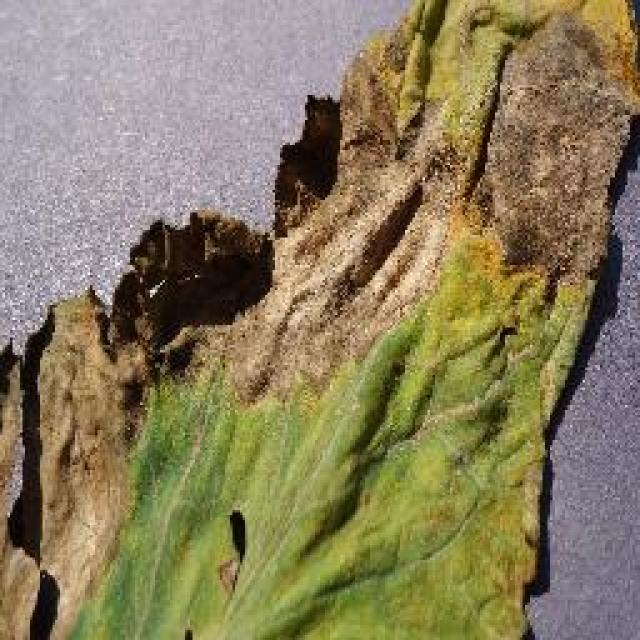Tomato Late Blight: (0, 43, 630, 532)
